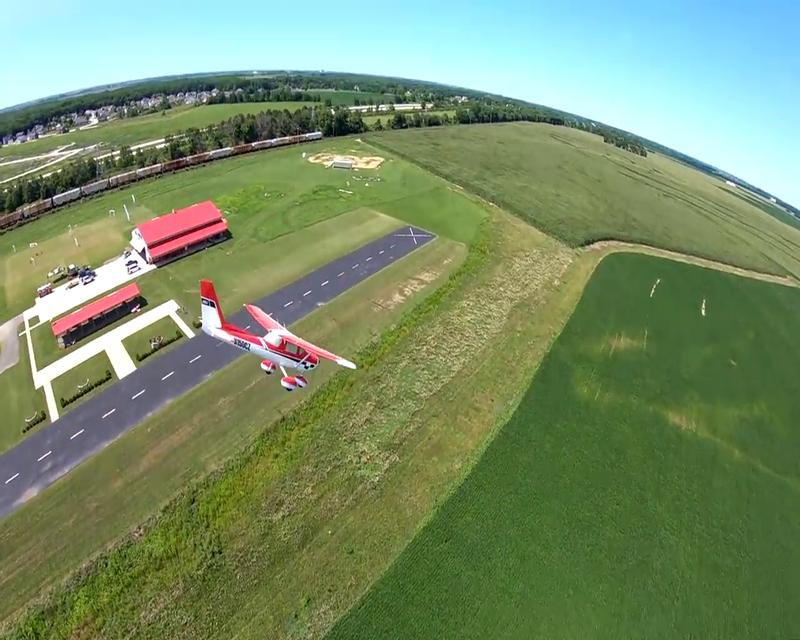UAV: (197, 277, 357, 392)
